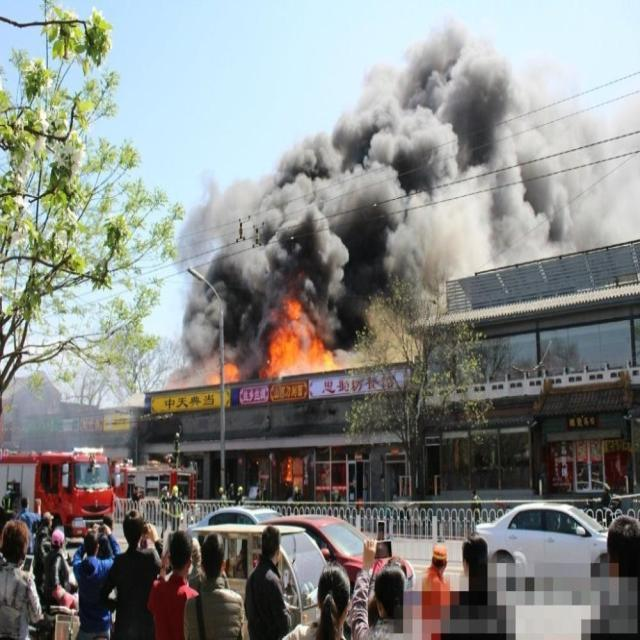Fire: (257, 296, 335, 381), (224, 362, 238, 384), (284, 456, 294, 484)
Smoke: (165, 11, 640, 390)
